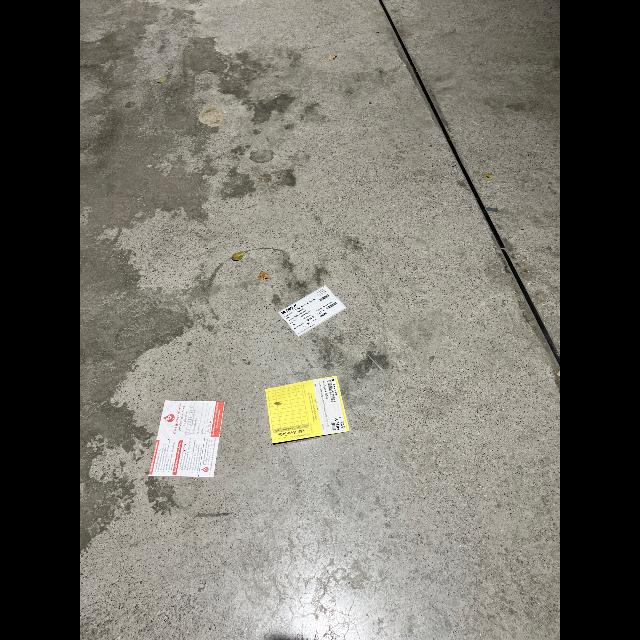scrap_paper: (138, 397, 226, 485), (261, 372, 353, 448), (266, 274, 346, 344)
